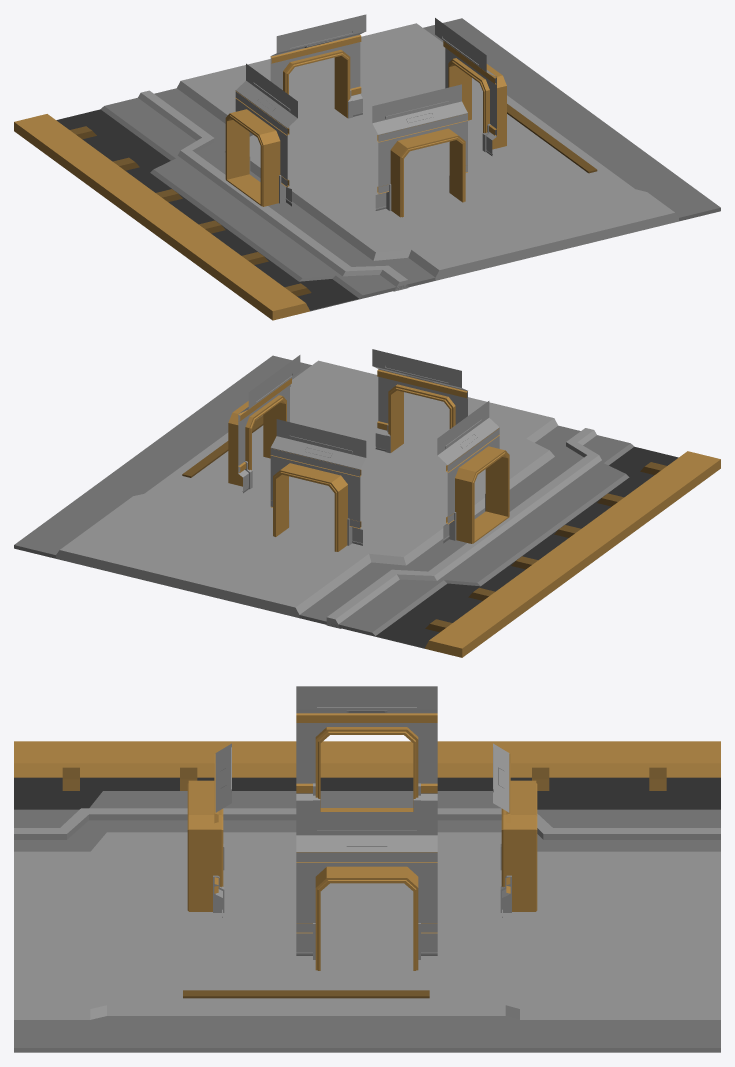
Rendered from city4.fbx.
3 renders of one model, top to bottom at view 1: azimuth 30°, elevation 25°; view 2: azimuth 150°, elevation 25°; view 3: azimuth 270°, elevation 25°, orthographic. The views are drawn at different scales.
Parts seen in each view (by area): view 1: FloorTile_Side, DoorDouble_Wall_SideA1, DoorDouble_Wall_SideA3, DoorDouble_Wall_SideA, DoorDouble_Wall_SideA2; view 2: FloorTile_Side, DoorDouble_Wall_SideA, DoorDouble_Wall_SideA3, DoorDouble_Wall_SideA1, DoorDouble_Wall_SideA2; view 3: FloorTile_Side, DoorDouble_Wall_SideA2, DoorDouble_Wall_SideA3, DoorDouble_Wall_SideA, DoorDouble_Wall_SideA1.
Part boxes in pixels (bbox=[...]): FloorTile_Side: bbox=[14, 18, 720, 320]; DoorDouble_Wall_SideA1: bbox=[372, 84, 467, 217]; DoorDouble_Wall_SideA3: bbox=[225, 63, 297, 206]; DoorDouble_Wall_SideA: bbox=[270, 14, 366, 128]; DoorDouble_Wall_SideA2: bbox=[435, 18, 506, 155]; FloorTile_Side: bbox=[14, 355, 720, 657]; DoorDouble_Wall_SideA: bbox=[270, 419, 366, 551]; DoorDouble_Wall_SideA3: bbox=[437, 401, 509, 543]; DoorDouble_Wall_SideA1: bbox=[372, 349, 467, 452]; DoorDouble_Wall_SideA2: bbox=[228, 355, 300, 493]; FloorTile_Side: bbox=[14, 741, 720, 1052]; DoorDouble_Wall_SideA2: bbox=[296, 812, 437, 970]; DoorDouble_Wall_SideA3: bbox=[296, 686, 437, 811]; DoorDouble_Wall_SideA: bbox=[493, 743, 537, 917]; DoorDouble_Wall_SideA1: bbox=[187, 743, 231, 917].
Bounding box in the file's own units: 488 × 122 × 488.
